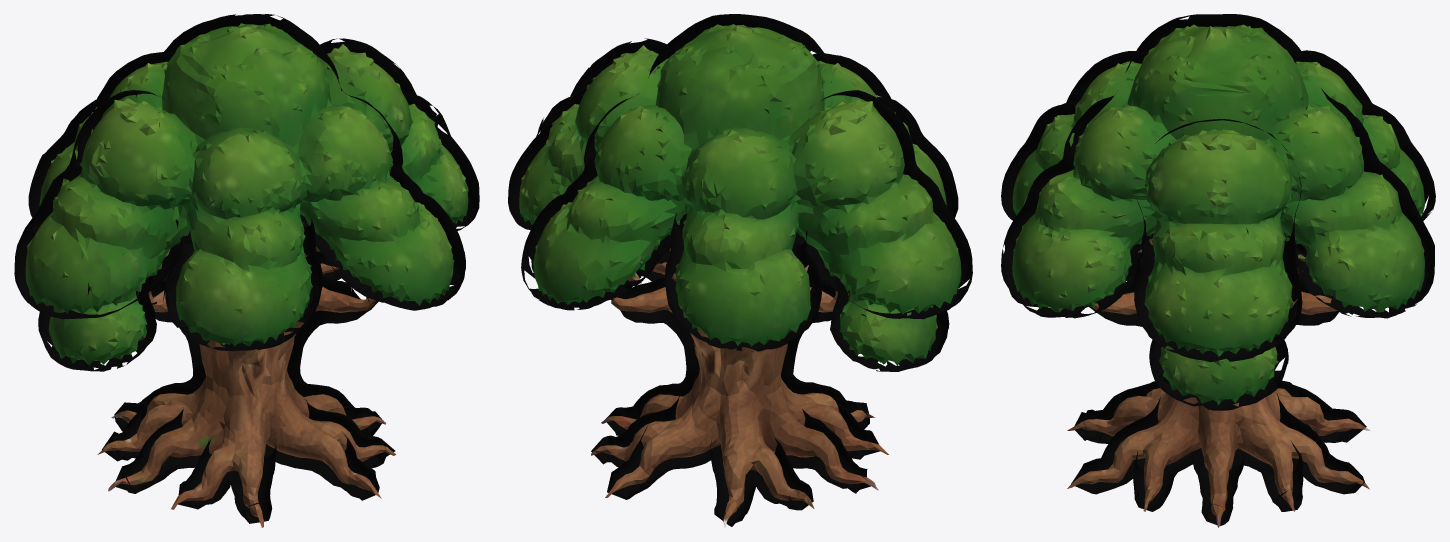
Rendered from Ghibli_Tree_D.glb.
The picture shows the model from 3 angles, left to right: view 1: azimuth 30°, elevation 25°; view 2: azimuth 150°, elevation 25°; view 3: azimuth 270°, elevation 25°; orthographic projection.
Parts seen in each view (by area): view 1: OakTree, OakTree_OutlineHull; view 2: OakTree, OakTree_OutlineHull; view 3: OakTree, OakTree_OutlineHull.
Part boxes in pixels (x1,y1,x2,y2): OakTree: (25,23,468,527); OakTree_OutlineHull: (14,14,479,523); OakTree: (519,24,961,527); OakTree_OutlineHull: (508,14,972,526); OakTree: (1012,24,1424,527); OakTree_OutlineHull: (1001,14,1435,525).
Size of the model in its own units: 1.98 by 1.9 by 1.68.
2 materials, 1 textured.
